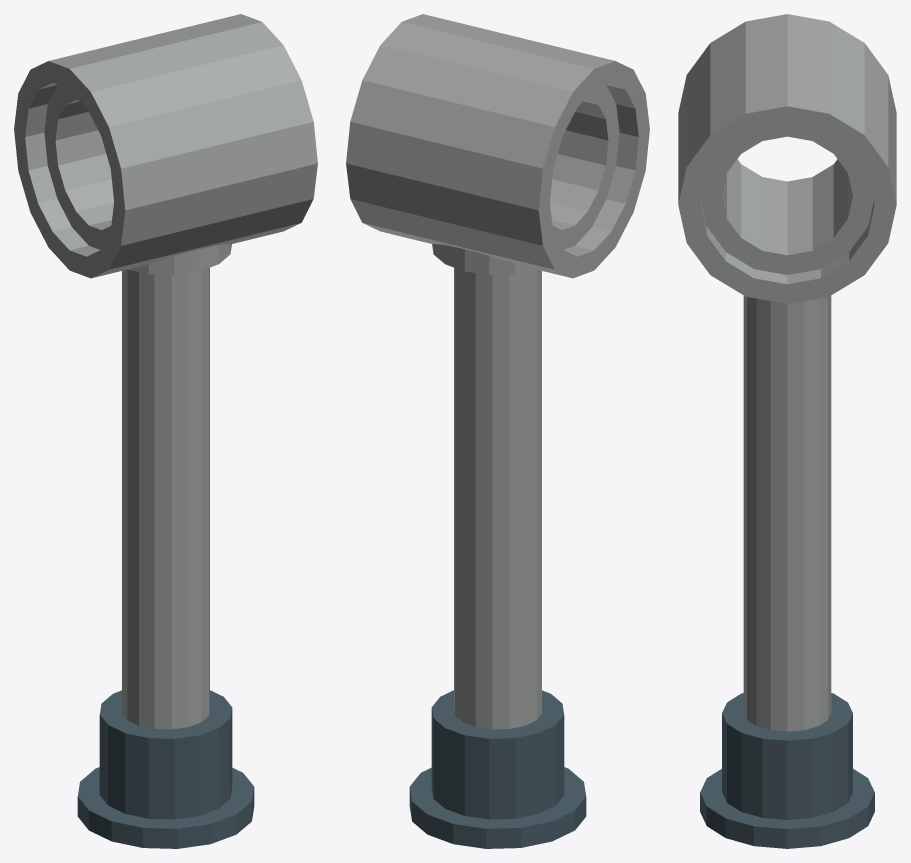
3 renders of one model, left to right at view 1: azimuth 30°, elevation 25°; view 2: azimuth 150°, elevation 25°; view 3: azimuth 270°, elevation 25°, orthographic.
Visible parts, largest first — view 1: world; view 2: world; view 3: world.
Boxes of the visible parts, <box> form: world: <box>14,14,317,848</box>; world: <box>346,14,649,848</box>; world: <box>678,14,896,848</box>.
Size of the model in its own units: 0.008 by 0.0304 by 0.008.
